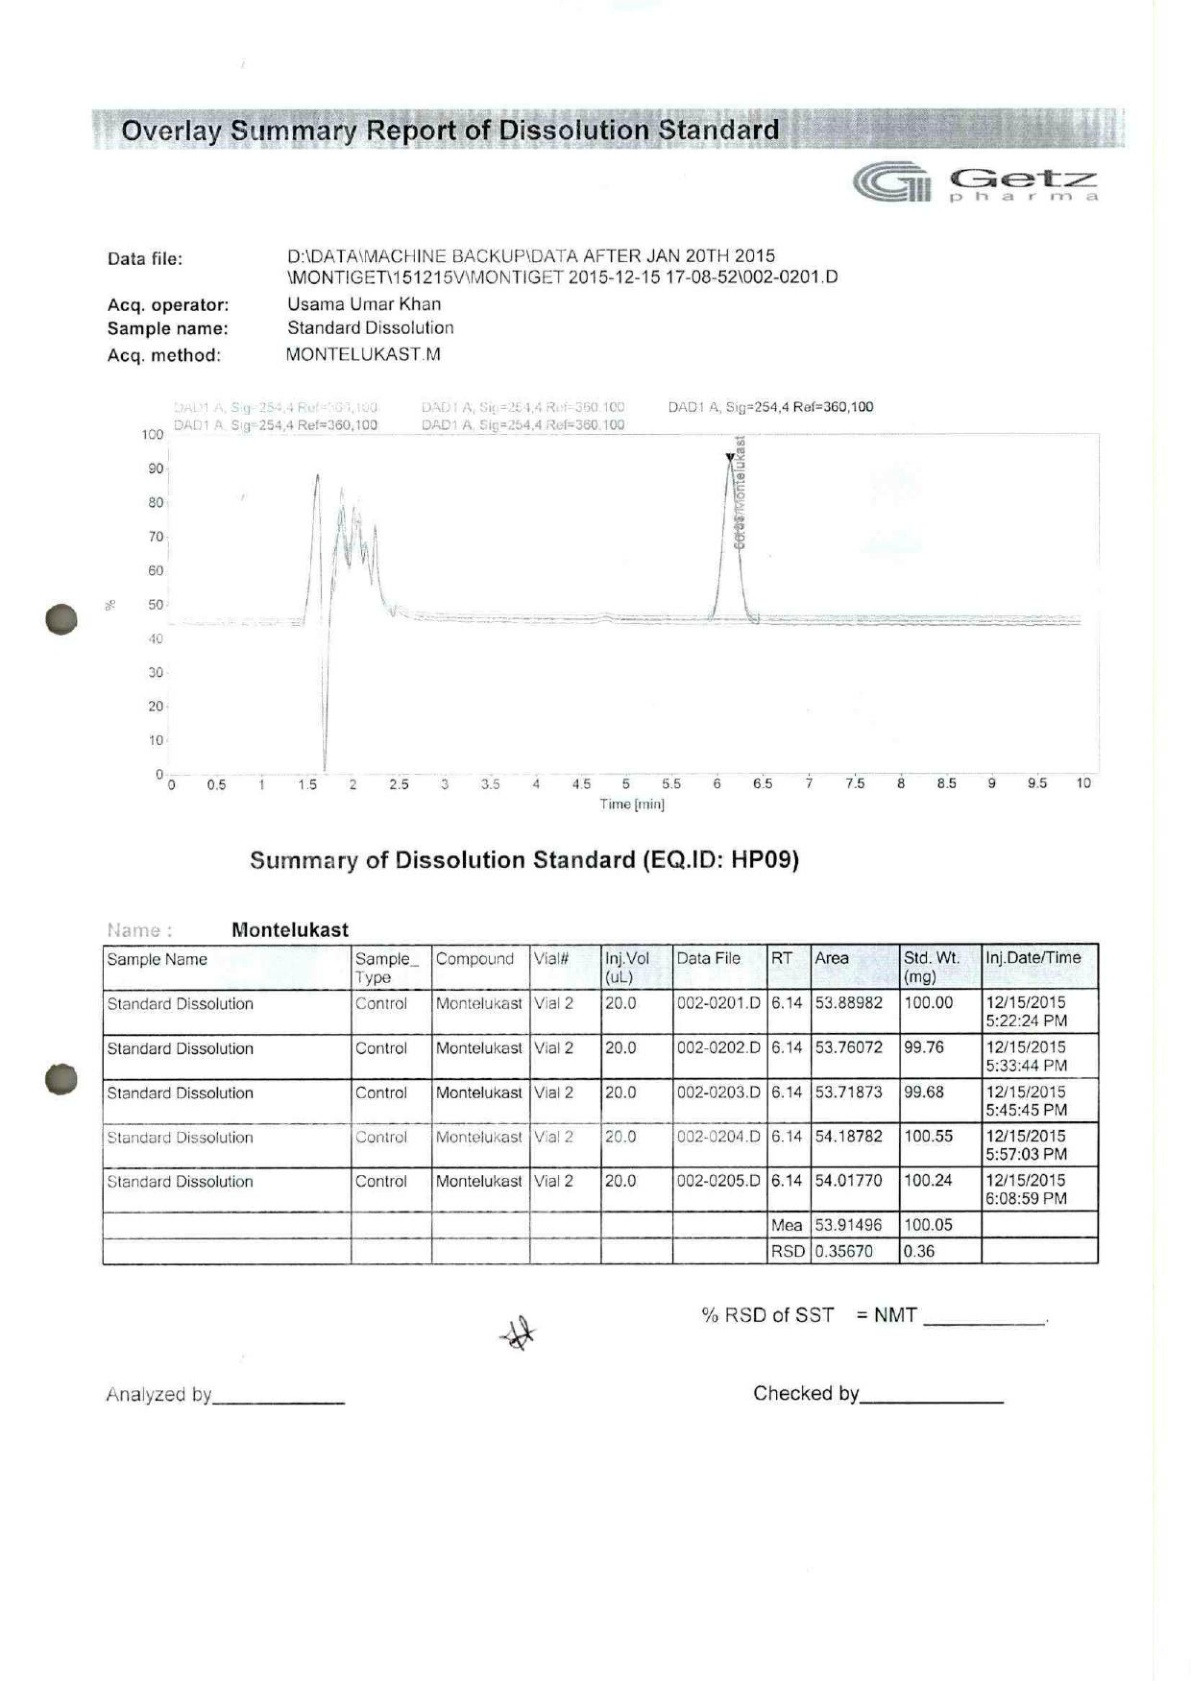full_lined: (101, 941, 1099, 1265)
nolines: (103, 246, 840, 365)
